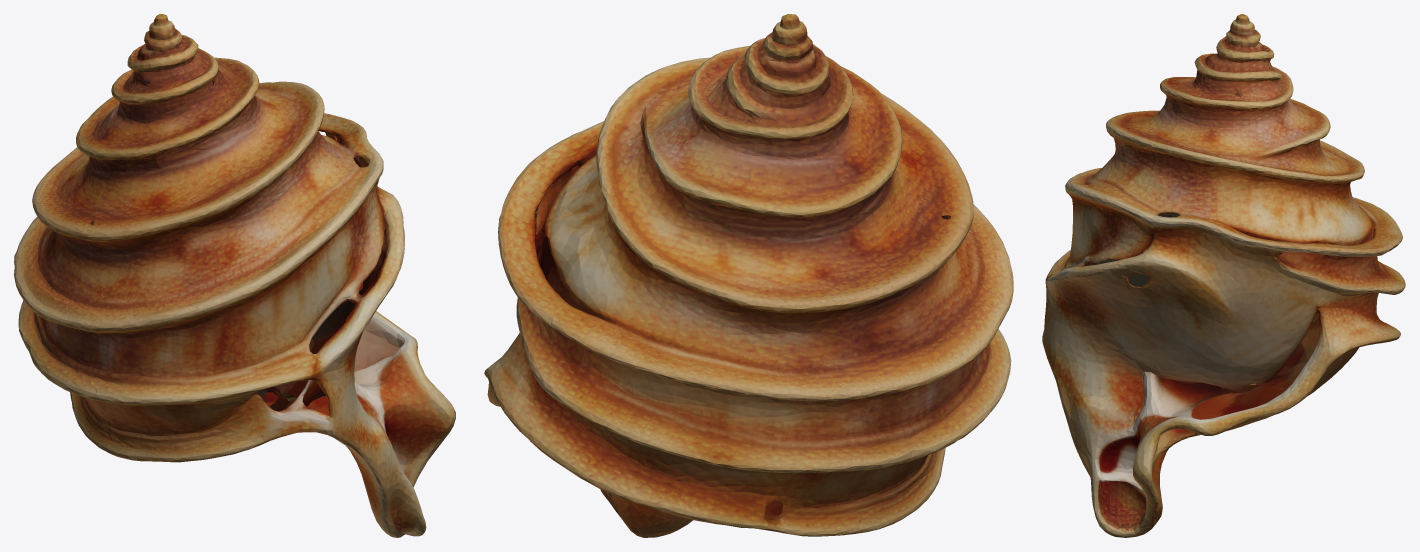
3 views of the same model, side by side, from view 1: azimuth 30°, elevation 25°; view 2: azimuth 150°, elevation 25°; view 3: azimuth 270°, elevation 25° (orthographic). The views are drawn at different scales.
Parts seen in each view (by area): view 1: world; view 2: world; view 3: world.
Boxes of the visible parts, bbox=[...] form: world: bbox=[14, 14, 455, 537]; world: bbox=[484, 14, 1013, 537]; world: bbox=[1042, 14, 1405, 537].
Size of the model in its own units: 0.7651 by 1 by 0.7387.
1 material, 1 textured.
